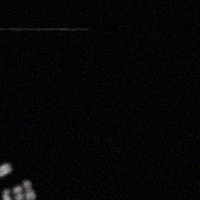chromosome: (0, 164, 12, 184), (25, 181, 35, 200), (3, 189, 16, 200), (14, 186, 23, 200)
